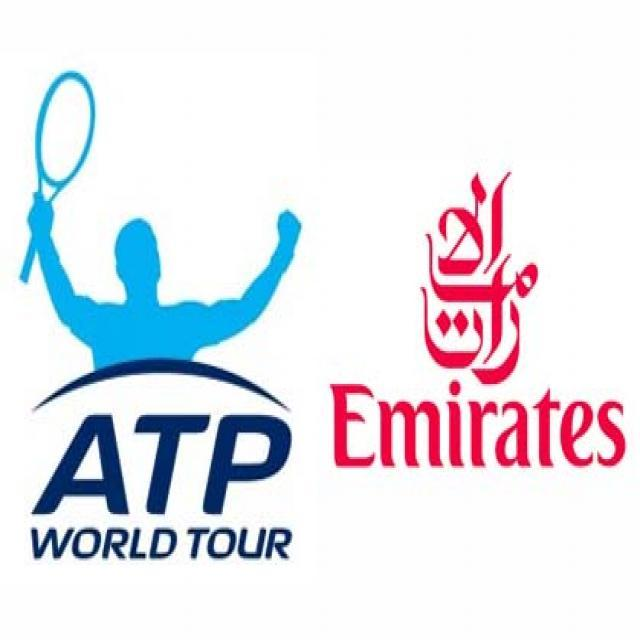Emirates: (330, 377, 628, 470)
